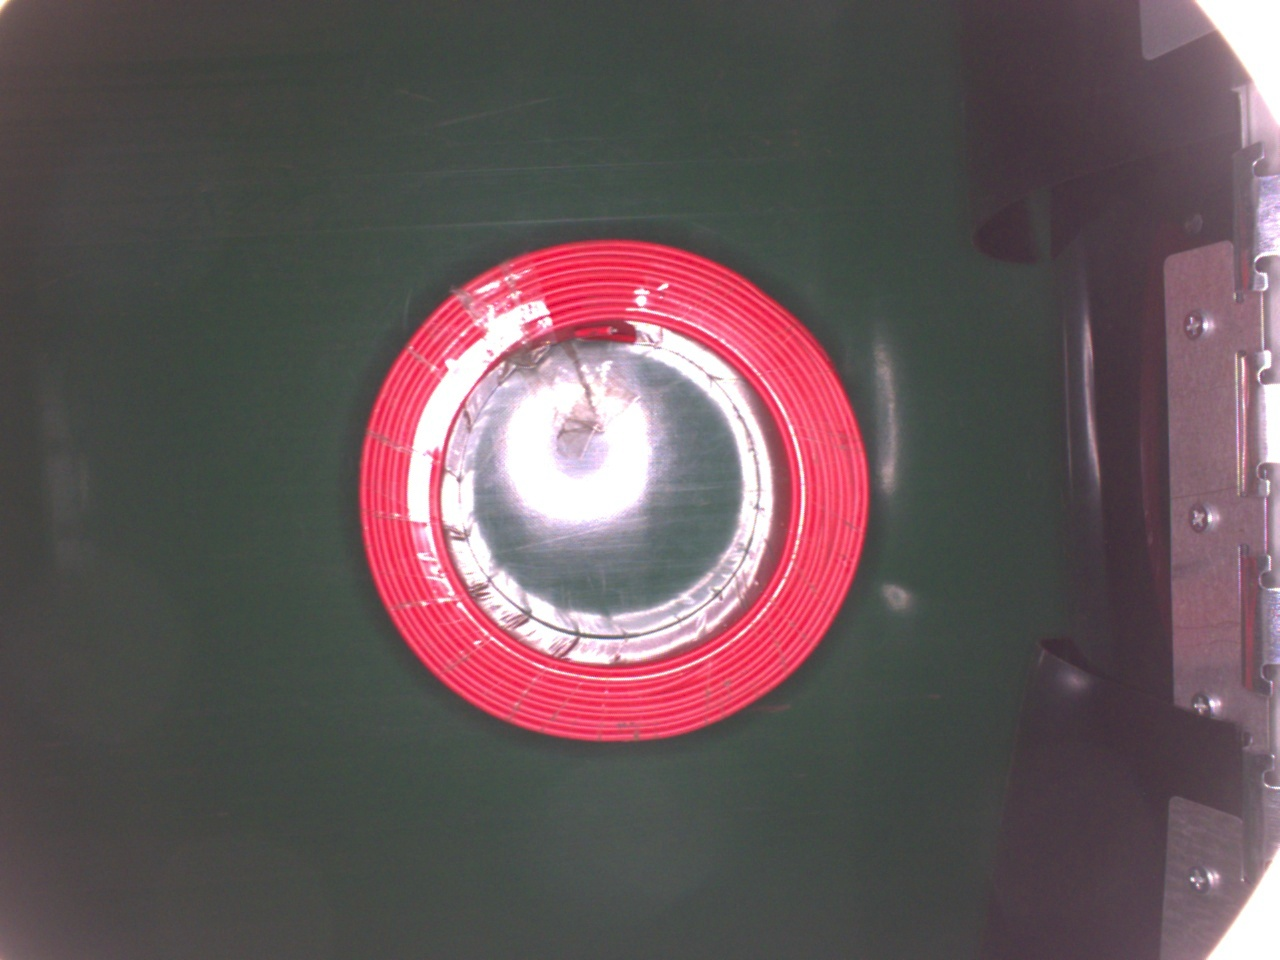red: (355, 235, 871, 747)
